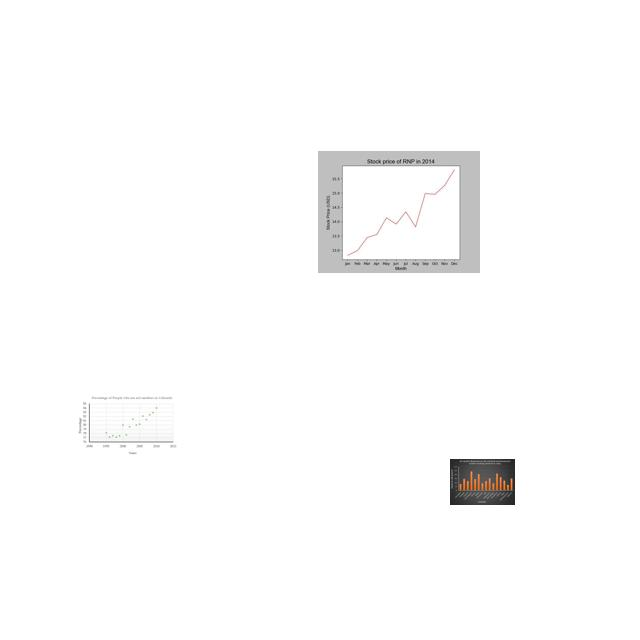Graph: (318, 151, 480, 273), (76, 395, 178, 456), (450, 459, 515, 505)
